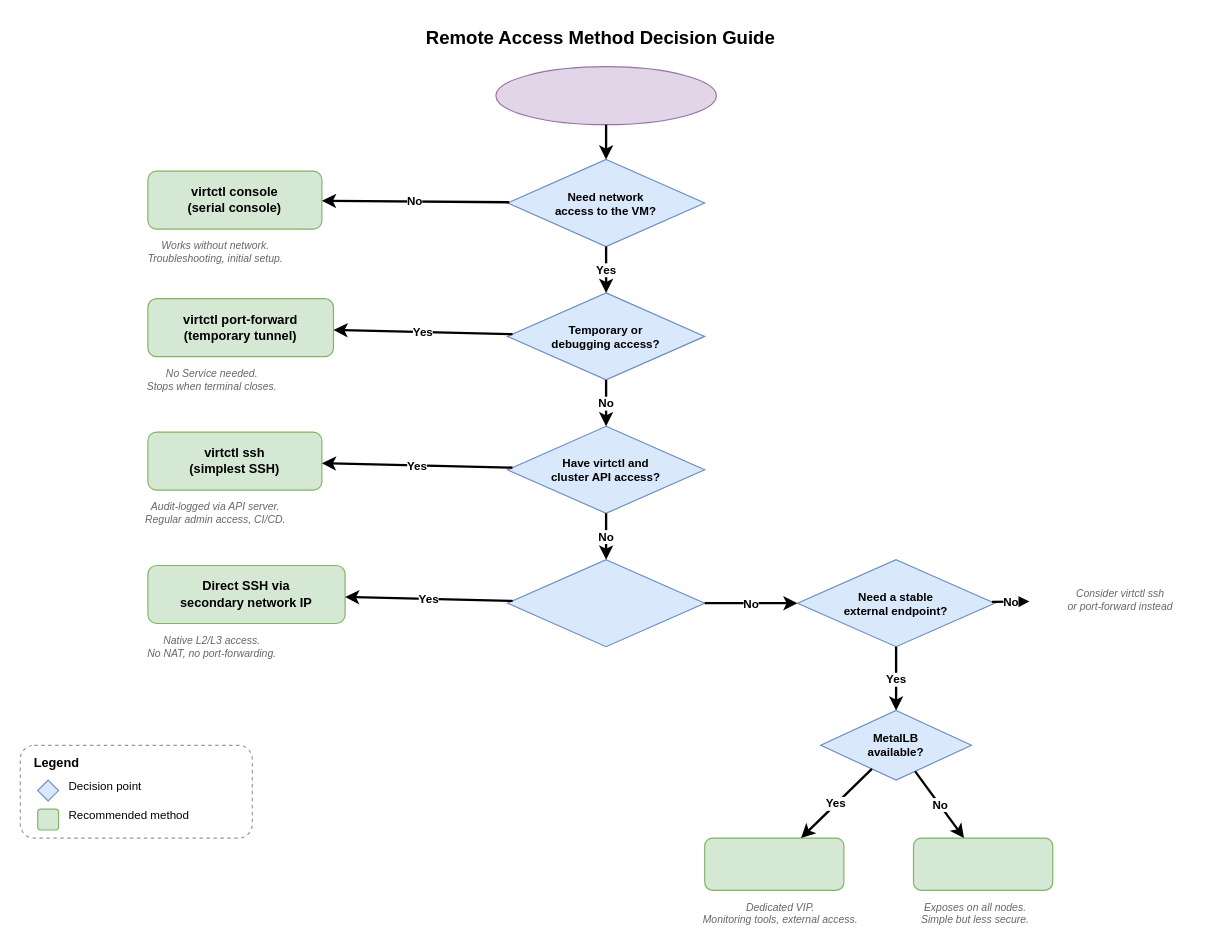
Image size: 1230x950. Some labels were removed from this diagram. The centre of each missing label's shape, as x and y in pixels:
Choose an access method: the point at 605,95
LoadBalancer Service: the point at 774,863
NodePort Service: the point at 982,863
VM on a secondary network?: the point at 605,603
